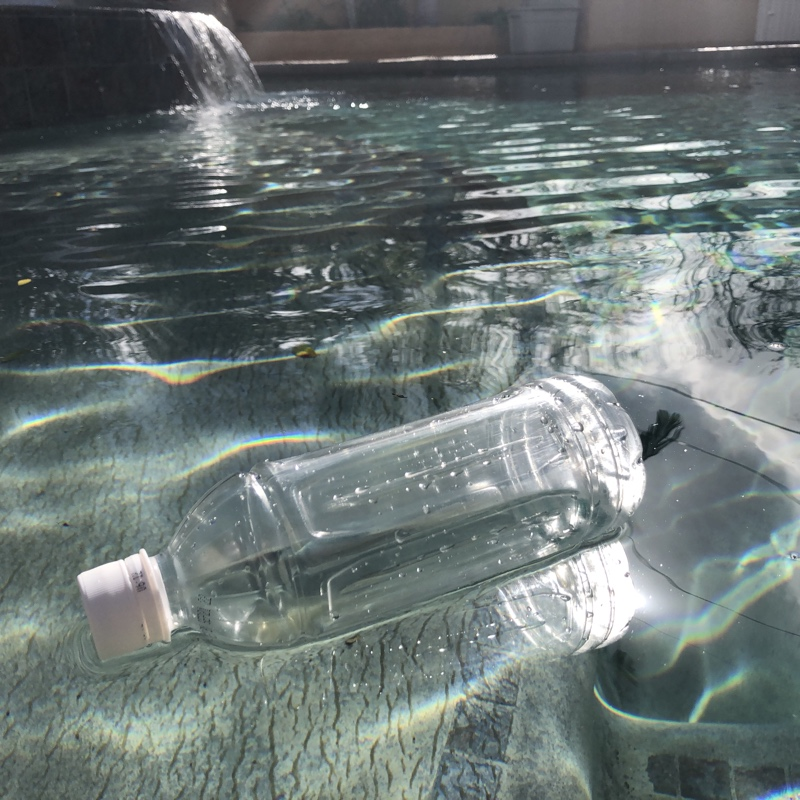Plastic Bottle: (71, 369, 653, 672)
